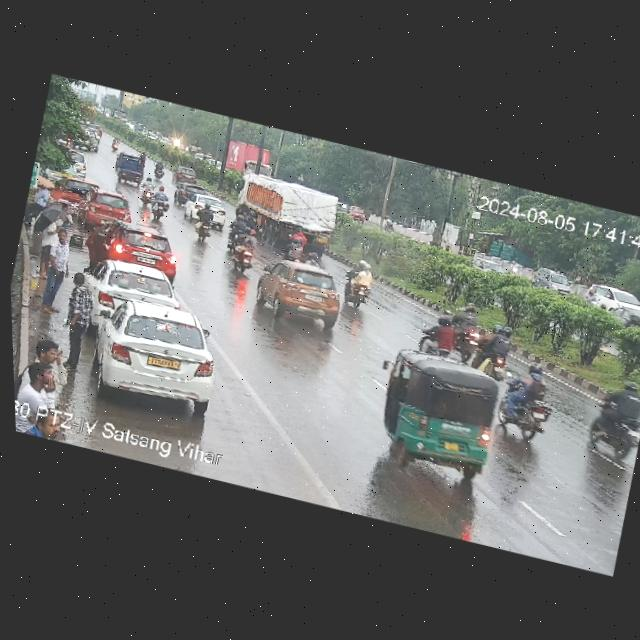car: (365, 340, 516, 485), (79, 289, 229, 413), (248, 253, 352, 335), (85, 253, 180, 319), (102, 219, 190, 281), (75, 185, 132, 229), (581, 278, 640, 320), (532, 266, 582, 298), (184, 192, 230, 224), (606, 302, 640, 341), (114, 154, 147, 186), (471, 253, 510, 278), (176, 180, 208, 205), (172, 163, 199, 185), (346, 205, 373, 225)
motorcycle: (491, 368, 567, 446), (581, 373, 640, 461), (409, 311, 478, 364), (467, 320, 521, 375), (339, 256, 387, 312), (219, 222, 265, 276), (284, 228, 331, 269), (437, 294, 484, 334), (186, 200, 223, 243), (147, 186, 176, 215), (136, 175, 158, 207), (150, 159, 167, 181)
person: (12, 330, 81, 433), (52, 272, 104, 368), (34, 224, 80, 311)
truck: (233, 171, 344, 246), (217, 136, 279, 183), (107, 107, 129, 125)
